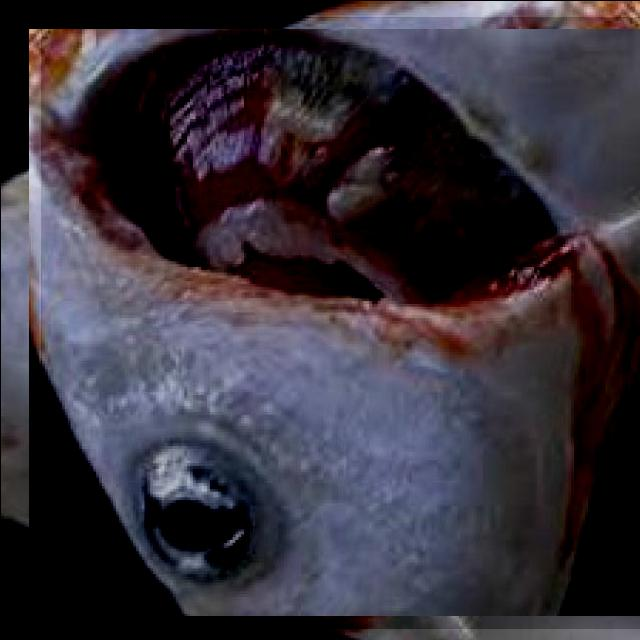Gill Disease: (40, 16, 640, 628)
